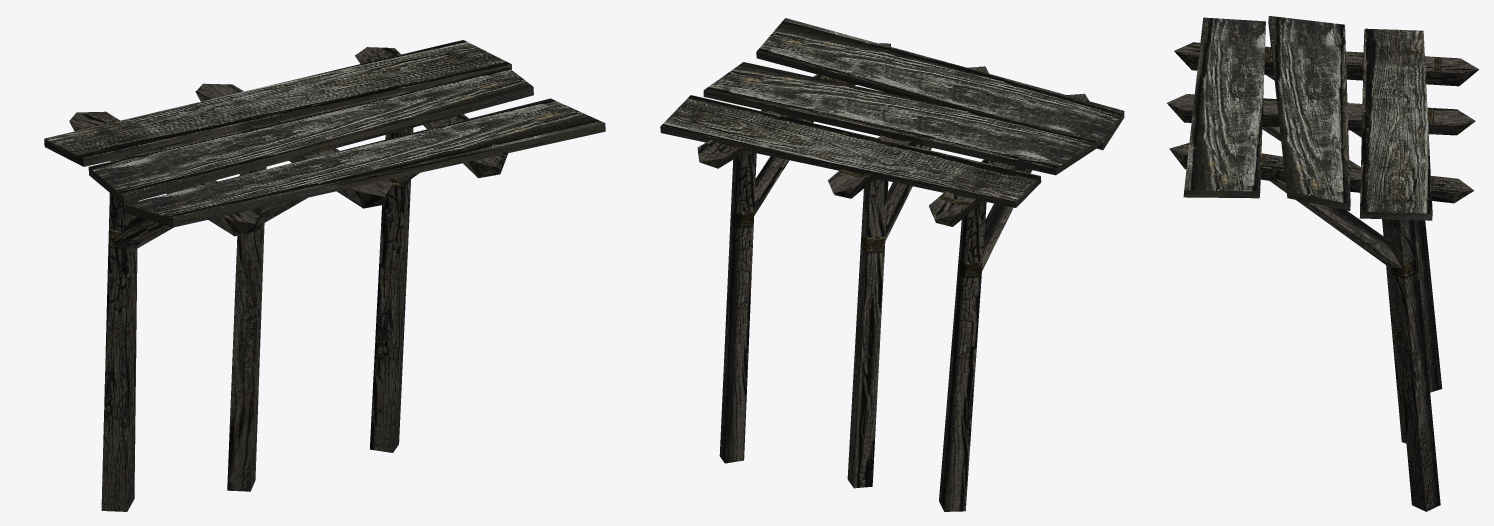
The model's file is obudowa.glb.
The picture shows the model from 3 angles, left to right: view 1: azimuth 30°, elevation 25°; view 2: azimuth 150°, elevation 25°; view 3: azimuth 270°, elevation 25°; orthographic projection. The views are drawn at different scales.
Visible parts, largest first — view 1: zengin01; view 2: zengin01; view 3: zengin01.
Part boxes in pixels (box(x1,y1,x2,y2)): zengin01: box(44, 40, 605, 511); zengin01: box(660, 18, 1124, 511); zengin01: box(1167, 16, 1478, 511).
Size of the model in its own units: 5.23 by 4.64 by 3.77.
4 materials, 4 textured.
